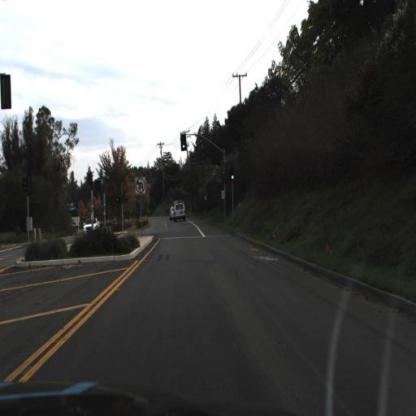car: (79, 213, 102, 237), (82, 216, 103, 238), (174, 205, 190, 224)
trafficLight-Green: (181, 131, 191, 153), (229, 167, 236, 190), (180, 133, 188, 153), (230, 164, 238, 182)
